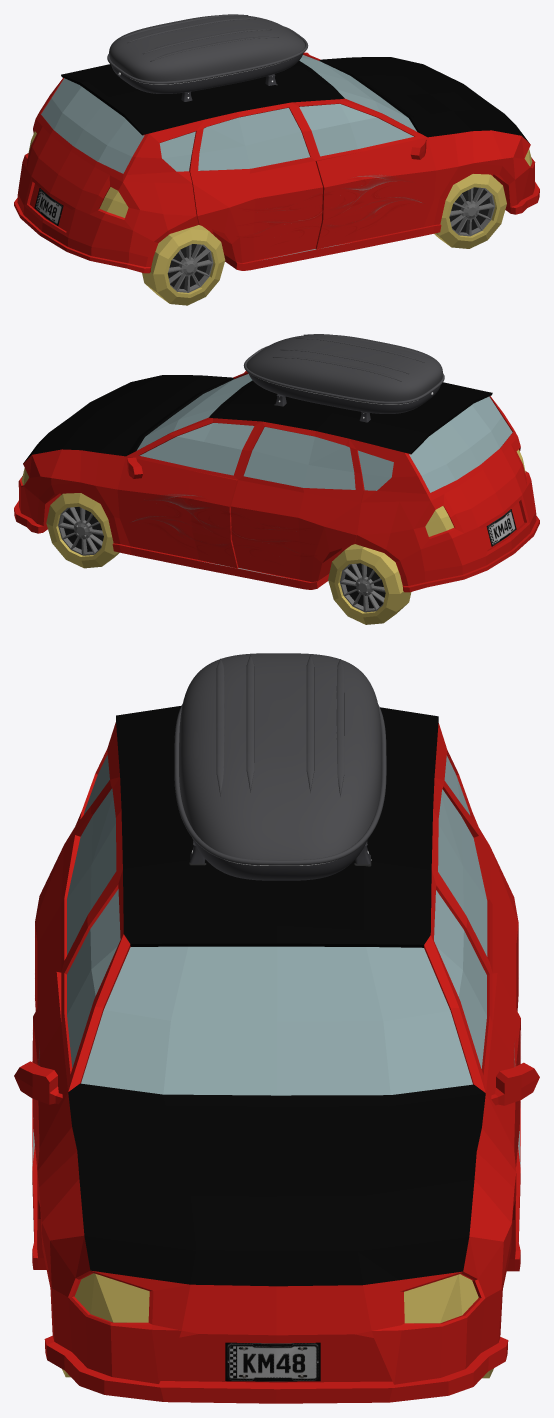
The model's file is suv-flama-hot.glb.
3 renders of one model, top to bottom at view 1: azimuth 30°, elevation 25°; view 2: azimuth 150°, elevation 25°; view 3: azimuth 270°, elevation 25°, orthographic. The views are drawn at different scales.
Visible parts, largest first — view 1: SUV_Cube002, Tapa, SUV_BackWheels_Cylinder_010, SUV_FrontRightWheel_Cylinder_008, Bandeja_Inferior, Borde_Tapa, Decal_Box011, Patente_Box009; view 2: SUV_Cube002, Tapa, SUV_BackWheels_Cylinder_010, SUV_FrontLeftWheel_Cylinder_013, Bandeja_Inferior, Borde_Tapa, Decal_Box010, Patente_Box009; view 3: SUV_Cube002, Tapa, Patente_Box008, Borde_Tapa, Bandeja_Inferior, Tapa_Nervio_2, Tapa_Nervio_3, Tapa_Nervio_1, Tapa_Nervio_4.
Part boxes in pixels (x1,y1,x2,y2): SUV_Cube002: [14, 52, 539, 273]; Tapa: [109, 15, 305, 81]; SUV_BackWheels_Cylinder_010: [142, 225, 225, 305]; SUV_FrontRightWheel_Cylinder_008: [434, 174, 506, 248]; Bandeja_Inferior: [111, 53, 303, 93]; Borde_Tapa: [107, 26, 308, 84]; Decal_Box011: [247, 175, 421, 234]; Patente_Box009: [34, 188, 63, 225]; SUV_Cube002: [14, 371, 539, 592]; Tapa: [246, 335, 442, 401]; SUV_BackWheels_Cylinder_010: [328, 544, 411, 624]; SUV_FrontLeftWheel_Cylinder_013: [46, 493, 119, 568]; Bandeja_Inferior: [248, 373, 440, 413]; Borde_Tapa: [243, 346, 444, 404]; Decal_Box010: [132, 494, 306, 556]; Patente_Box009: [486, 509, 516, 546]; SUV_Cube002: [14, 705, 539, 1403]; Tapa: [179, 653, 381, 859]; Patente_Box008: [225, 1342, 320, 1381]; Borde_Tapa: [174, 704, 386, 865]; Bandeja_Inferior: [192, 838, 368, 880]; Tapa_Nervio_2: [246, 655, 254, 792]; Tapa_Nervio_3: [306, 655, 314, 792]; Tapa_Nervio_1: [216, 658, 224, 796]; Tapa_Nervio_4: [336, 659, 344, 796].
Bounding box in the file's own units: 4.4 × 2.1 × 2.21.
Materials: 13 (2 with a texture image).
